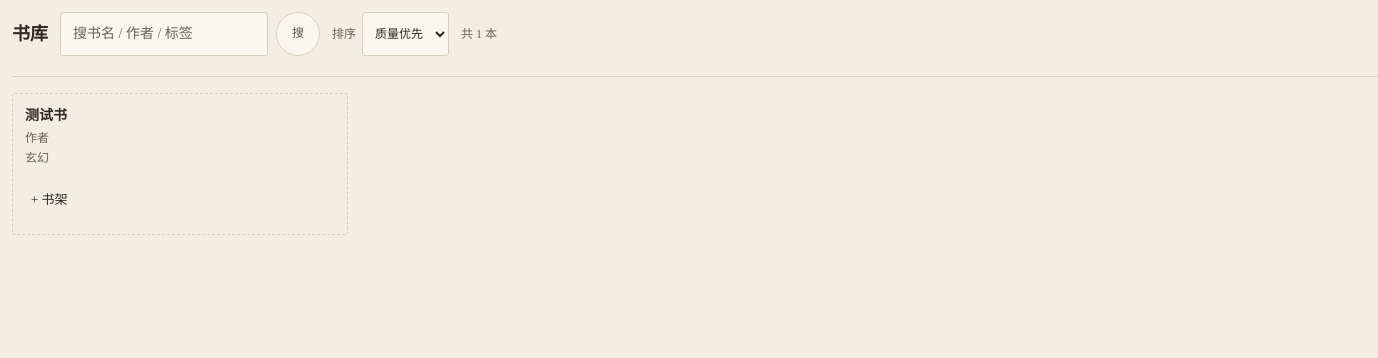
LibraryTab 下载已中断（running+leaseExpired） › 心跳过期的 running 显示「下载已中断」并渲染「重试」按钮
This screenshot has width=1378, height=358.
What coordinates should you click on to do the following:
click the button with aria-label "查看测试书详情"
I would click on:
 (46, 116)
Its box is [13,94,346,178].
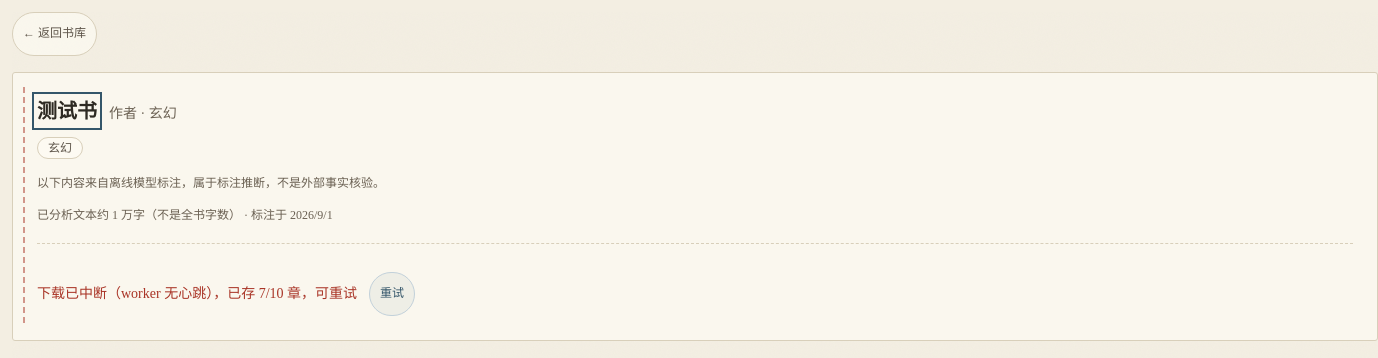
Result: the text "下载已中断（worker 无心跳），已存 7/10 章，可重试" is shown at [37,284,357,304]
Result: the button "重试" is shown at [369,272,415,316]
